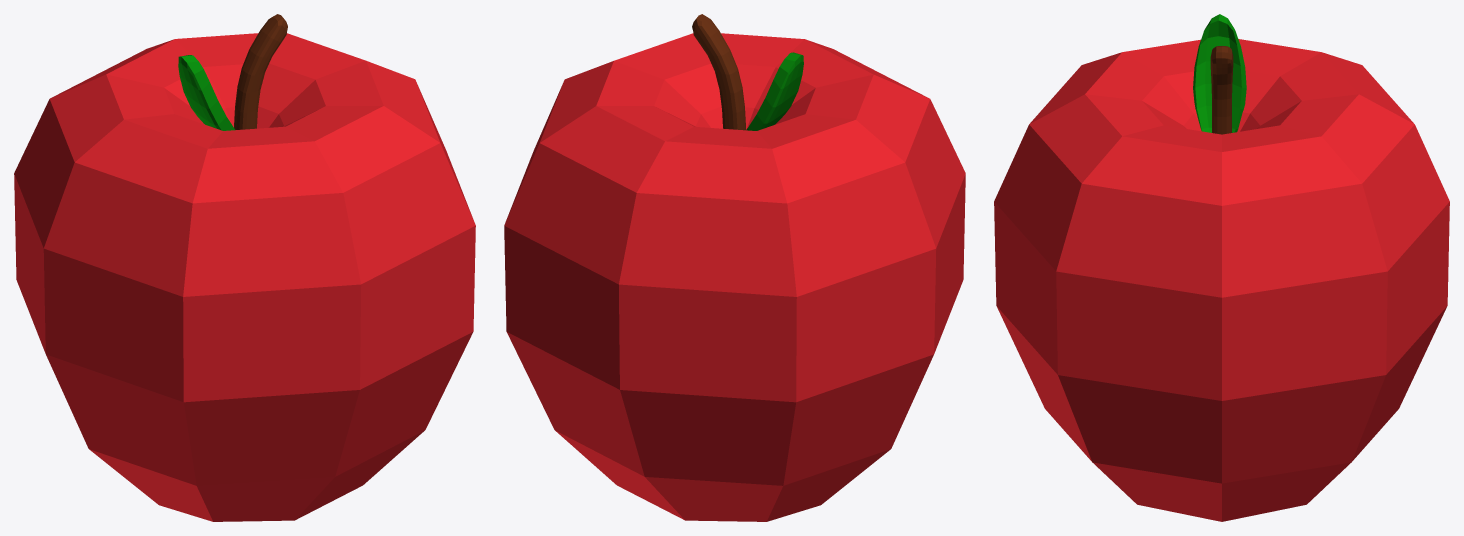
The model's file is Apple.fbx.
3 renders of one model, left to right at view 1: azimuth 30°, elevation 25°; view 2: azimuth 150°, elevation 25°; view 3: azimuth 270°, elevation 25°, orthographic.
Visible parts, largest first — view 1: Apple, stem, leaf; view 2: Apple, stem, leaf; view 3: Apple, leaf, stem.
Boxes of the visible parts, x1,y1,x2,y2 form: Apple: [14, 33, 475, 521]; stem: [234, 14, 287, 129]; leaf: [178, 55, 235, 130]; Apple: [504, 33, 965, 521]; stem: [692, 14, 745, 130]; leaf: [746, 52, 803, 130]; Apple: [994, 39, 1449, 521]; leaf: [1193, 14, 1246, 132]; stem: [1210, 46, 1233, 134].
Size of the model in its own units: 25.12 by 28.96 by 25.12.
